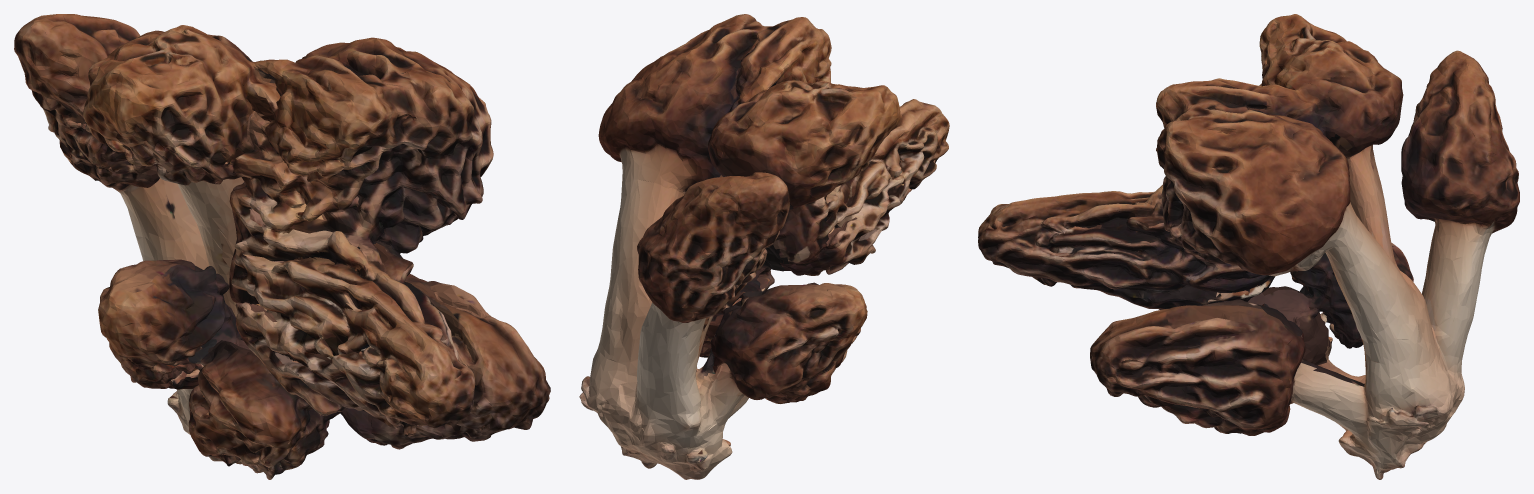
Rendered from morel_3D_color.glb.
3 views of the same model, side by side, from view 1: azimuth 30°, elevation 25°; view 2: azimuth 150°, elevation 25°; view 3: azimuth 270°, elevation 25° (orthographic). The views are drawn at different scales.
Visible parts, largest first — view 1: world; view 2: world; view 3: world.
Boxes of the visible parts, box(x1,y1,x2,y2) form: world: box(14, 14, 550, 479); world: box(579, 14, 949, 479); world: box(978, 14, 1519, 479).
Size of the model in its own units: 1.2 by 1.54 by 1.99.
Materials: 1 (1 with a texture image).
